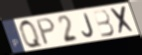2: (56, 14, 80, 44)
B: (92, 9, 116, 39)
J: (81, 12, 95, 39)
P: (35, 17, 57, 47)
Q: (18, 18, 45, 49)
X: (109, 5, 136, 36)
